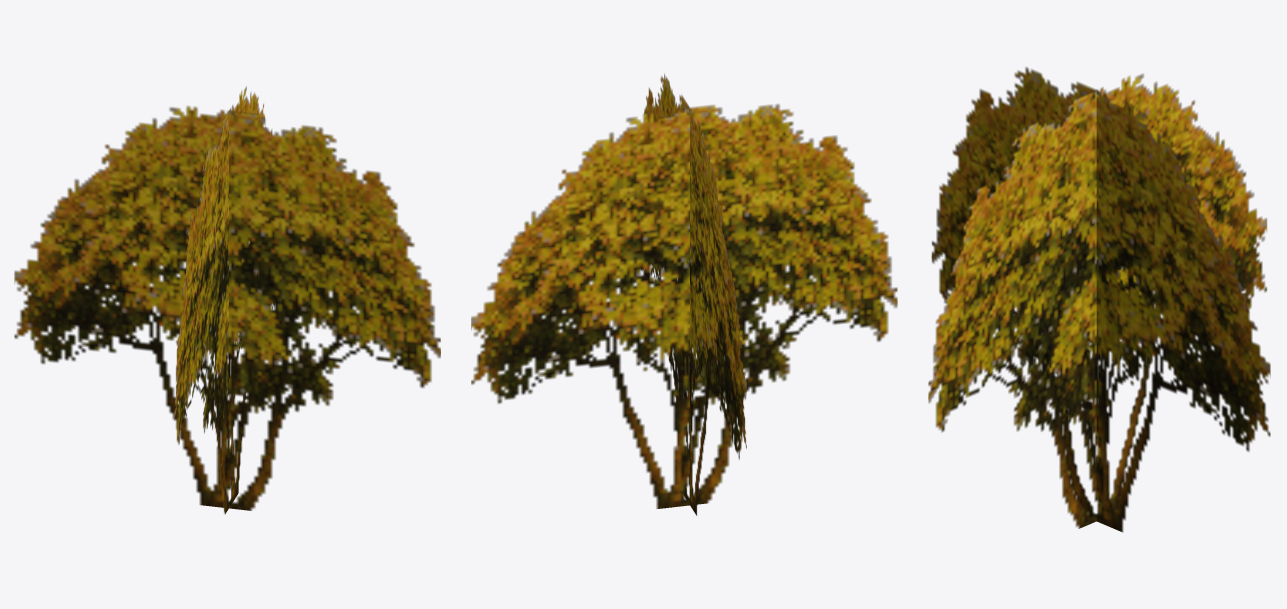
Rendered from tree016.glb.
3 renders of one model, left to right at view 1: azimuth 30°, elevation 25°; view 2: azimuth 150°, elevation 25°; view 3: azimuth 270°, elevation 25°, orthographic. The views are drawn at different scales.
Visible parts, largest first — view 1: tree016; view 2: tree016; view 3: tree016.
Boxes of the visible parts, <box> form: tree016: <box>14,86,440,514</box>; tree016: <box>471,74,897,515</box>; tree016: <box>928,67,1270,532</box>.
Size of the model in its own units: 2.17 by 3.1 by 2.17.
1 material, 1 textured.
